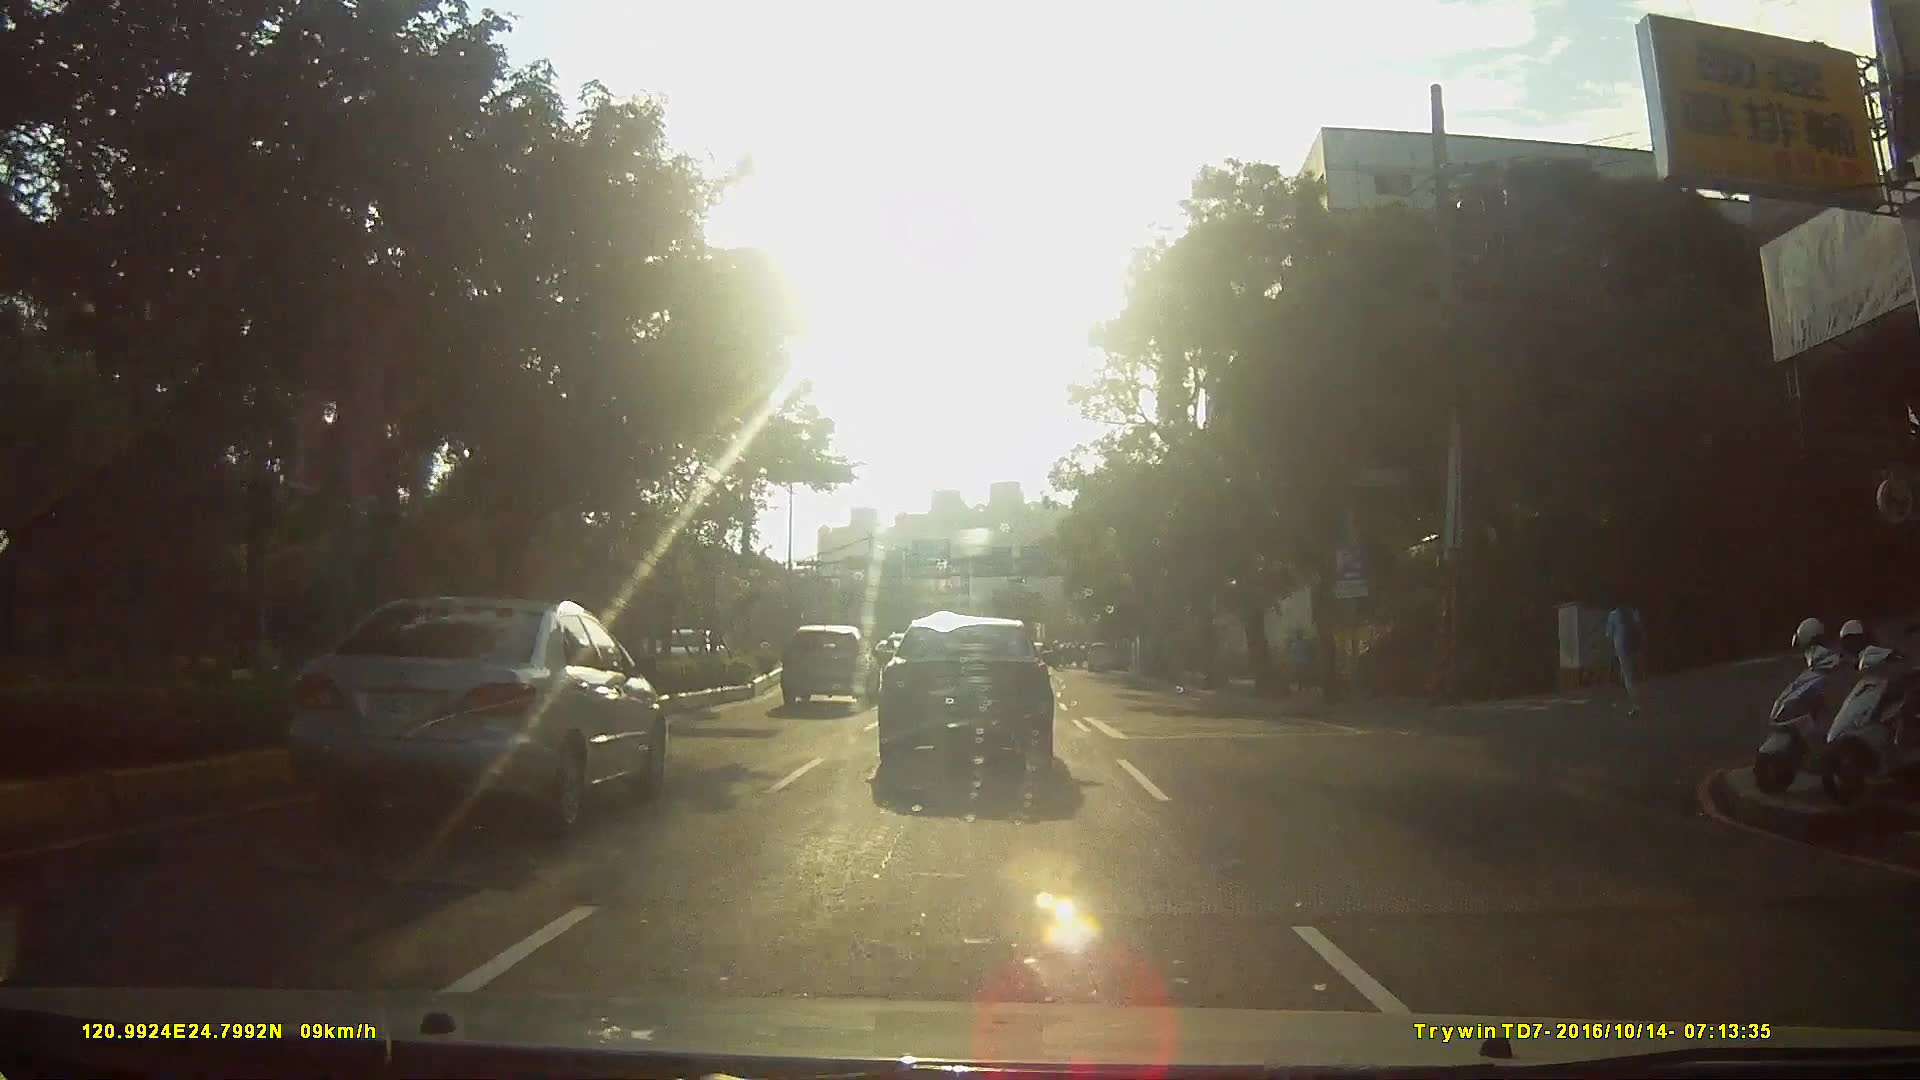pedestrian: (1607, 585, 1658, 713)
vehicle: (272, 593, 669, 834), (876, 615, 1080, 787), (780, 625, 882, 712), (1081, 641, 1115, 675)
